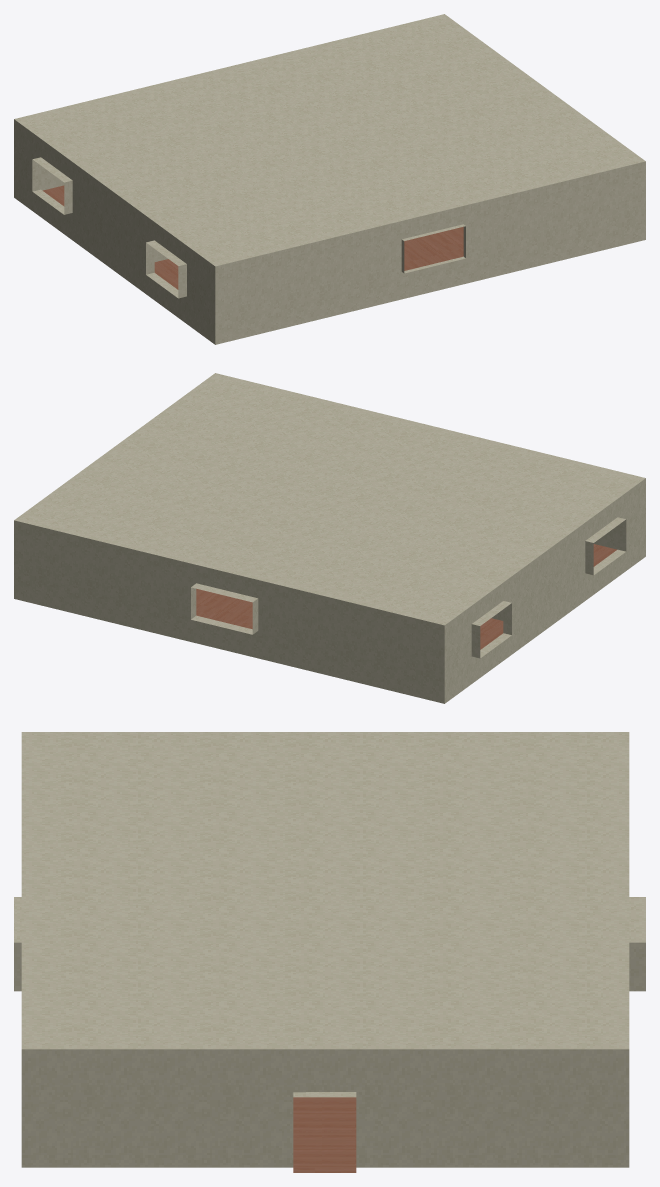
The picture shows the model from 3 angles, top to bottom: view 1: azimuth 30°, elevation 25°; view 2: azimuth 150°, elevation 25°; view 3: azimuth 270°, elevation 25°; orthographic projection. The views are drawn at different scales.
Parts seen in each view (by area): view 1: walls; view 2: walls; view 3: walls.
Part boxes in pixels (x1,y1,x2,y2): walls: (14, 14, 645, 344); walls: (14, 373, 645, 703); walls: (14, 732, 645, 1172).
Size of the model in its own units: 19.1 by 3.21 by 15.53.
Materials: 2 (2 with a texture image).
